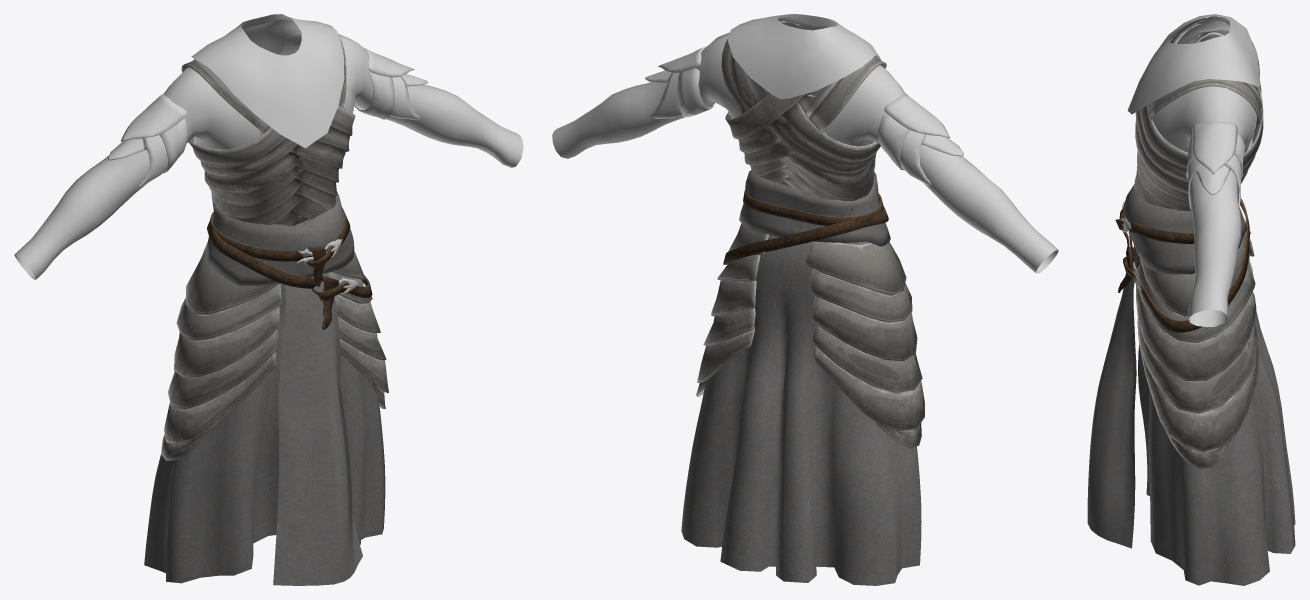
File: rivendell_torso_lord2_silver.fbx
3 renders of one model, left to right at view 1: azimuth 30°, elevation 25°; view 2: azimuth 150°, elevation 25°; view 3: azimuth 270°, elevation 25°, orthographic. The views are drawn at different scales.
Visible parts, largest first — view 1: rivendell_torso_lord2_silver.3, rivendell_torso_lord2_silver.0, rivendell_torso_lord2_silver.4, rivendell_torso_lord2_silver.2, rivendell_torso_lord2_silver.1, rivendell_torso_lord2_silver.6, rivendell_torso_lord2_silver.5; view 2: rivendell_torso_lord2_silver.0, rivendell_torso_lord2_silver.2, rivendell_torso_lord2_silver.4, rivendell_torso_lord2_silver.1, rivendell_torso_lord2_silver.6, rivendell_torso_lord2_silver.3, rivendell_torso_lord2_silver.5; view 3: rivendell_torso_lord2_silver.0, rivendell_torso_lord2_silver.2, rivendell_torso_lord2_silver.3, rivendell_torso_lord2_silver.4, rivendell_torso_lord2_silver.1, rivendell_torso_lord2_silver.6, rivendell_torso_lord2_silver.5.
Part boxes in pixels (x1=…): rivendell_torso_lord2_silver.3: x1=206, y1=192, x2=372, y2=585; rivendell_torso_lord2_silver.0: x1=144, y1=283, x2=385, y2=583; rivendell_torso_lord2_silver.4: x1=14, y1=19, x2=523, y2=279; rivendell_torso_lord2_silver.2: x1=161, y1=241, x2=388, y2=460; rivendell_torso_lord2_silver.1: x1=181, y1=25, x2=355, y2=261; rivendell_torso_lord2_silver.6: x1=191, y1=14, x2=344, y2=148; rivendell_torso_lord2_silver.5: x1=107, y1=48, x2=427, y2=188; rivendell_torso_lord2_silver.0: x1=681, y1=235, x2=921, y2=585; rivendell_torso_lord2_silver.2: x1=696, y1=223, x2=924, y2=448; rivendell_torso_lord2_silver.4: x1=552, y1=17, x2=1058, y2=273; rivendell_torso_lord2_silver.1: x1=721, y1=21, x2=886, y2=243; rivendell_torso_lord2_silver.6: x1=727, y1=14, x2=880, y2=98; rivendell_torso_lord2_silver.3: x1=723, y1=170, x2=890, y2=264; rivendell_torso_lord2_silver.5: x1=645, y1=46, x2=963, y2=185; rivendell_torso_lord2_silver.0: x1=1138, y1=236, x2=1295, y2=585; rivendell_torso_lord2_silver.2: x1=1136, y1=219, x2=1258, y2=469; rivendell_torso_lord2_silver.3: x1=1087, y1=184, x2=1249, y2=548; rivendell_torso_lord2_silver.4: x1=1152, y1=18, x2=1256, y2=327; rivendell_torso_lord2_silver.1: x1=1134, y1=16, x2=1263, y2=211; rivendell_torso_lord2_silver.6: x1=1127, y1=14, x2=1260, y2=114; rivendell_torso_lord2_silver.5: x1=1185, y1=30, x2=1244, y2=210.
Bounding box in the file's own units: 1.38 × 0.5129 × 1.4.
